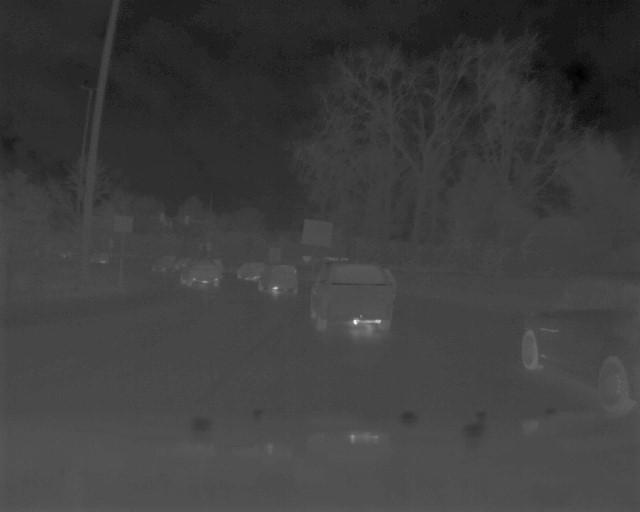car: (518, 265, 640, 406), (305, 256, 400, 336), (255, 262, 300, 297), (176, 256, 225, 288), (235, 260, 268, 283)
